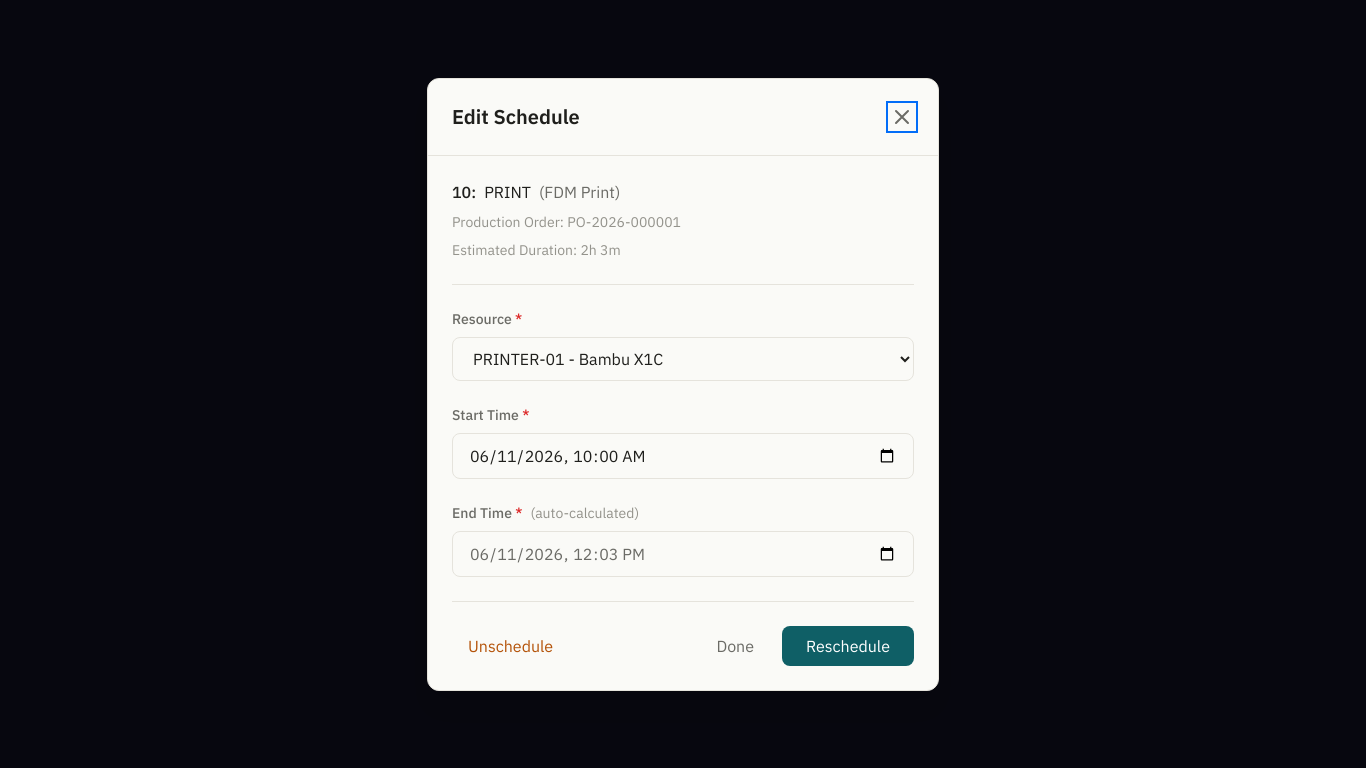
Test: OperationSchedulerModal — successor conflict › renders Successor Conflict banner after successor violation
Select "PRINTER-01 - Bambu X1C" in the dropdown at (683, 358), box [452,336,914,380]
Click the button "Reschedule" at (848, 646), box [782,626,914,666]
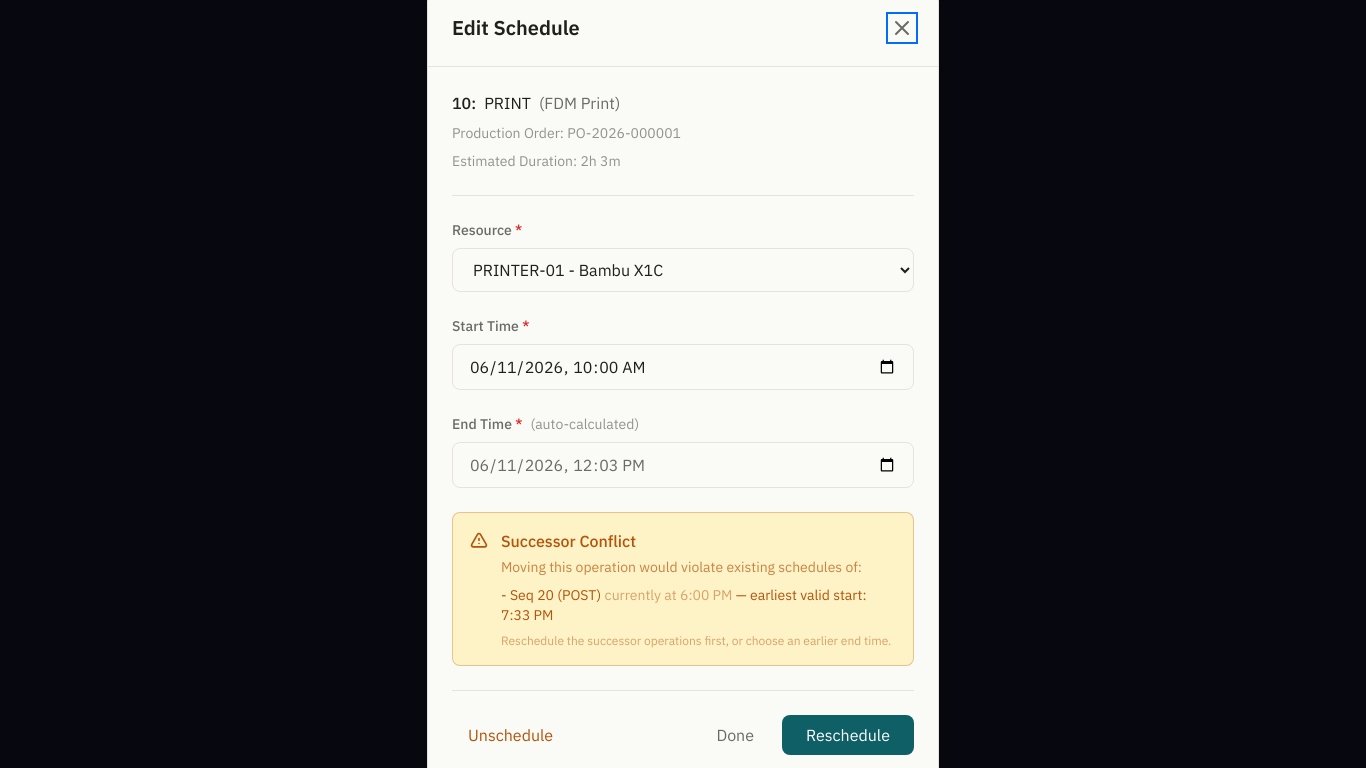
Result: the heading "Successor Conflict" is shown at [501,530,636,550]
Result: the list item "POST" is shown at [562,586,597,604]
